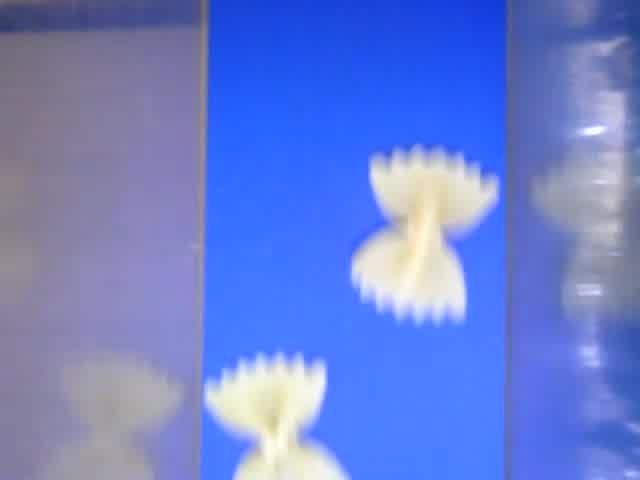farfalle: (348, 144, 501, 324), (204, 353, 351, 480)
